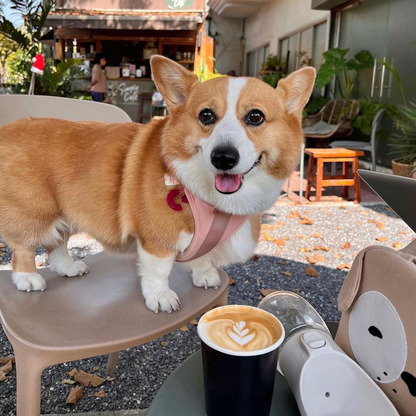Corgi: (14, 43, 321, 323)
